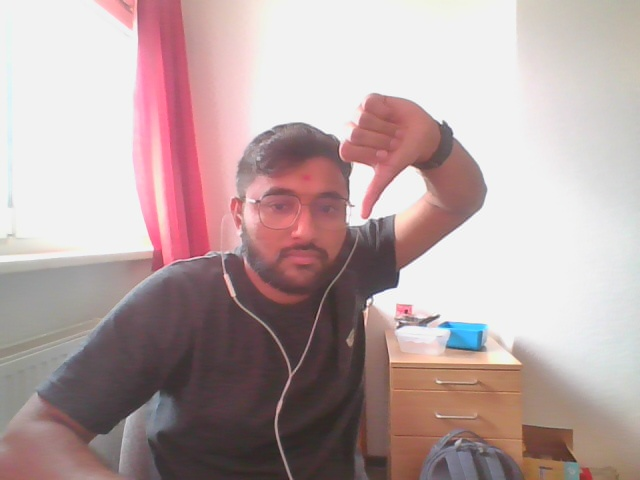ThumbsDown: (338, 92, 427, 220)
